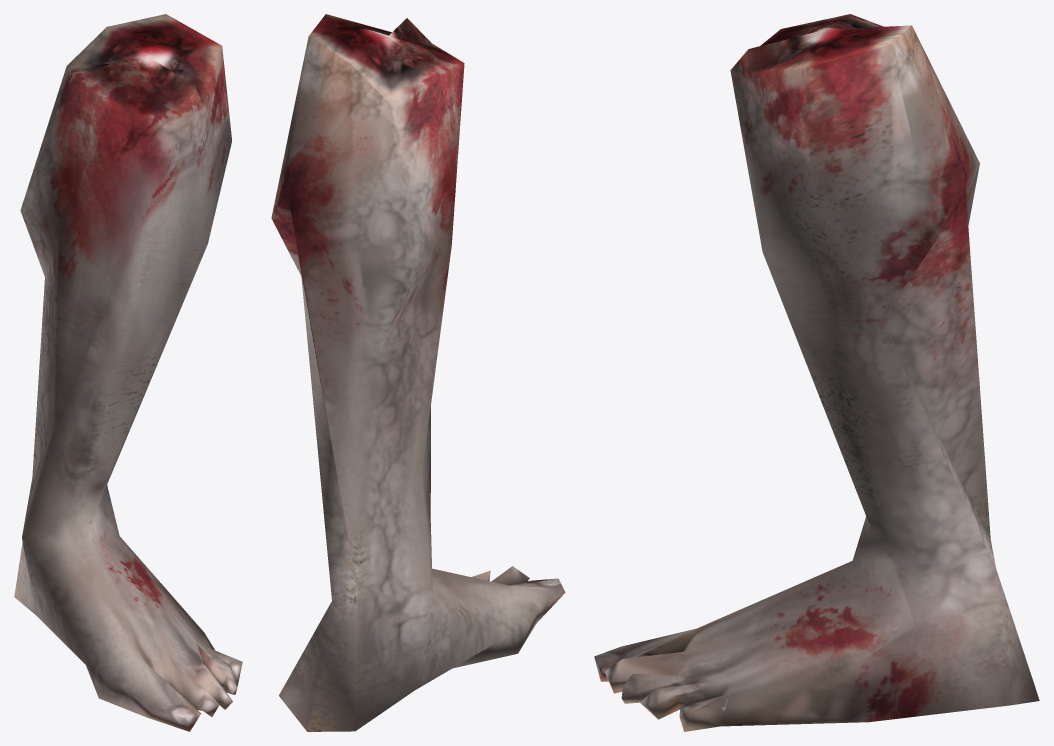
The model's file is severed leg 1111.gltf.
The picture shows the model from 3 angles, left to right: view 1: azimuth 30°, elevation 25°; view 2: azimuth 150°, elevation 25°; view 3: azimuth 270°, elevation 25°; orthographic projection. The views are drawn at different scales.
Visible parts, largest first — view 1: severedLeg; view 2: severedLeg; view 3: severedLeg.
Boxes of the visible parts, x1,y1,x2,y2 form: severedLeg: (14, 14, 242, 731); severedLeg: (271, 14, 565, 731); severedLeg: (594, 14, 1039, 731).
Size of the model in its own units: 0.141 by 0.4906 by 0.2842.
Materials: 1 (1 with a texture image).
